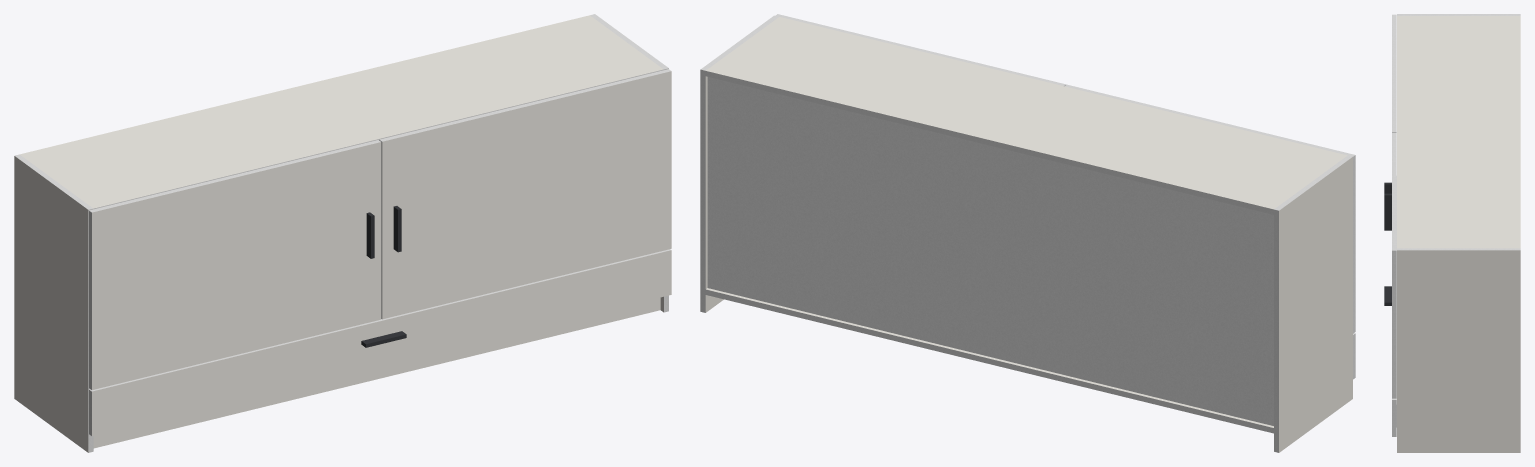
File: LIT-SDB-long.glb
The picture shows the model from 3 angles, left to right: view 1: azimuth 30°, elevation 25°; view 2: azimuth 150°, elevation 25°; view 3: azimuth 270°, elevation 25°; orthographic projection. The views are drawn at different scales.
Visible parts, largest first — view 1: door-r:pbr, door-l:pbr, top:pbr, d1-front:pbr, side-l:pbr, plinth:pbr, pull, d1-front:sheet:eyJtIjoibWRmIiwic2lkZSI6ImVkZ2UtbG9uZyIsInNlZ, door-l:sheet:eyJtIjoibWRmIiwic2lkZSI6ImVkZ2UtbG9uZyIsInNlZWQ, door-r:sheet:eyJtIjoibWRmIiwic2lkZSI6ImVkZ2UtbG9uZyIsInNlZWQ, top:sheet:eyJtIjoibWRmIiwic2lkZSI6ImVkZ2UtbG9uZyIsInNlZWQiOj; view 2: back:sheet:eyJtIjoibWRmIiwic2lkZSI6ImZhY2UiLCJzZWVkIjoyLCJ0a, top:pbr, side-l:pbr, bottom:sheet:eyJtIjoibWRmIiwic2lkZSI6ImVkZ2UtbG9uZyIsInNlZWQ, top:sheet:eyJtIjoibWRmIiwic2lkZSI6ImVkZ2UtbG9uZyIsInNlZWQiOj, side-r:sheet:eyJtIjoibWRmIiwic2lkZSI6ImVkZ2UtbG9uZyIsInNlZWQ, bottom:pbr, side-l:sheet:eyJtIjoibWRmIiwic2lkZSI6ImVkZ2UtbG9uZyIsInNlZWQ, door-l:sheet:eyJtIjoibWRmIiwic2lkZSI6ImVkZ2UtbG9uZyIsInNlZWQ, door-r:sheet:eyJtIjoibWRmIiwic2lkZSI6ImVkZ2UtbG9uZyIsInNlZWQ, side-r:pbr; view 3: top:pbr, side-r:pbr, door-r:sheet:eyJtIjoibWRmIiwic2lkZSI6ImVkZ2UtZW5kIiwic2VlZCI, door-l:sheet:eyJtIjoibWRmIiwic2lkZSI6ImVkZ2UtbG9uZyIsInNlZWQ, door-r:sheet:eyJtIjoibWRmIiwic2lkZSI6ImVkZ2UtbG9uZyIsInNlZWQ, pull, side-r:sheet:eyJtIjoibWRmIiwic2lkZSI6ImVkZ2UtZW5kIiwic2VlZCI, side-l:sheet:eyJtIjoibWRmIiwic2lkZSI6ImVkZ2UtZW5kIiwic2VlZCI, d1-box-front:sheet:eyJtIjoibWRmIiwic2lkZSI6ImVkZ2UtbG9uZyIsI, d1-front:sheet:eyJtIjoibWRmIiwic2lkZSI6ImVkZ2UtZW5kIiwic2VlZ.
Boxes of the visible parts, x1,y1,x2,y2 form: door-r:pbr: [382, 71, 671, 319]; door-l:pbr: [92, 142, 381, 389]; top:pbr: [20, 15, 663, 208]; d1-front:pbr: [92, 250, 671, 435]; side-l:pbr: [14, 156, 88, 452]; plinth:pbr: [93, 297, 660, 448]; pull: [361, 206, 406, 347]; d1-front:sheet:eyJtIjoibWRmIiwic2lkZSI6ImVkZ2UtbG9uZyIsInNlZ: [89, 249, 671, 391]; door-l:sheet:eyJtIjoibWRmIiwic2lkZSI6ImVkZ2UtbG9uZyIsInNlZWQ: [89, 140, 380, 212]; door-r:sheet:eyJtIjoibWRmIiwic2lkZSI6ImVkZ2UtbG9uZyIsInNlZWQ: [380, 69, 671, 141]; top:sheet:eyJtIjoibWRmIiwic2lkZSI6ImVkZ2UtbG9uZyIsInNlZWQiOj: [94, 69, 663, 209]; back:sheet:eyJtIjoibWRmIiwic2lkZSI6ImZhY2UiLCJzZWVkIjoyLCJ0a: [707, 77, 1273, 425]; top:pbr: [706, 17, 1347, 209]; side-l:pbr: [1279, 157, 1352, 452]; bottom:sheet:eyJtIjoibWRmIiwic2lkZSI6ImVkZ2UtbG9uZyIsInNlZWQ: [705, 289, 1273, 433]; top:sheet:eyJtIjoibWRmIiwic2lkZSI6ImVkZ2UtbG9uZyIsInNlZWQiOj: [705, 71, 1273, 214]; side-r:sheet:eyJtIjoibWRmIiwic2lkZSI6ImVkZ2UtbG9uZyIsInNlZWQ: [700, 69, 705, 312]; bottom:pbr: [706, 288, 1273, 427]; side-l:sheet:eyJtIjoibWRmIiwic2lkZSI6ImVkZ2UtbG9uZyIsInNlZWQ: [1274, 209, 1278, 452]; door-l:sheet:eyJtIjoibWRmIiwic2lkZSI6ImVkZ2UtbG9uZyIsInNlZWQ: [1065, 84, 1354, 156]; door-r:sheet:eyJtIjoibWRmIiwic2lkZSI6ImVkZ2UtbG9uZyIsInNlZWQ: [775, 14, 1065, 85]; side-r:pbr: [705, 76, 723, 312]; top:pbr: [1397, 16, 1520, 248]; side-r:pbr: [1397, 250, 1520, 452]; door-r:sheet:eyJtIjoibWRmIiwic2lkZSI6ImVkZ2UtZW5kIiwic2VlZCI: [1392, 250, 1396, 398]; door-l:sheet:eyJtIjoibWRmIiwic2lkZSI6ImVkZ2UtbG9uZyIsInNlZWQ: [1392, 14, 1396, 132]; door-r:sheet:eyJtIjoibWRmIiwic2lkZSI6ImVkZ2UtbG9uZyIsInNlZWQ: [1392, 133, 1396, 250]; pull: [1384, 182, 1391, 305]; side-r:sheet:eyJtIjoibWRmIiwic2lkZSI6ImVkZ2UtZW5kIiwic2VlZCI: [1397, 248, 1520, 250]; side-l:sheet:eyJtIjoibWRmIiwic2lkZSI6ImVkZ2UtZW5kIiwic2VlZCI: [1397, 14, 1520, 15]; d1-box-front:sheet:eyJtIjoibWRmIiwic2lkZSI6ImVkZ2UtbG9uZyIsI: [1396, 178, 1396, 402]; d1-front:sheet:eyJtIjoibWRmIiwic2lkZSI6ImVkZ2UtZW5kIiwic2VlZ: [1392, 400, 1396, 436].
Size of the model in its own units: 2 by 0.8 by 0.4869.
55 materials, 42 textured.
